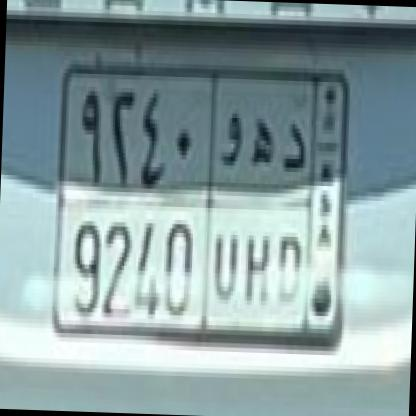english: (51, 192, 315, 331)
